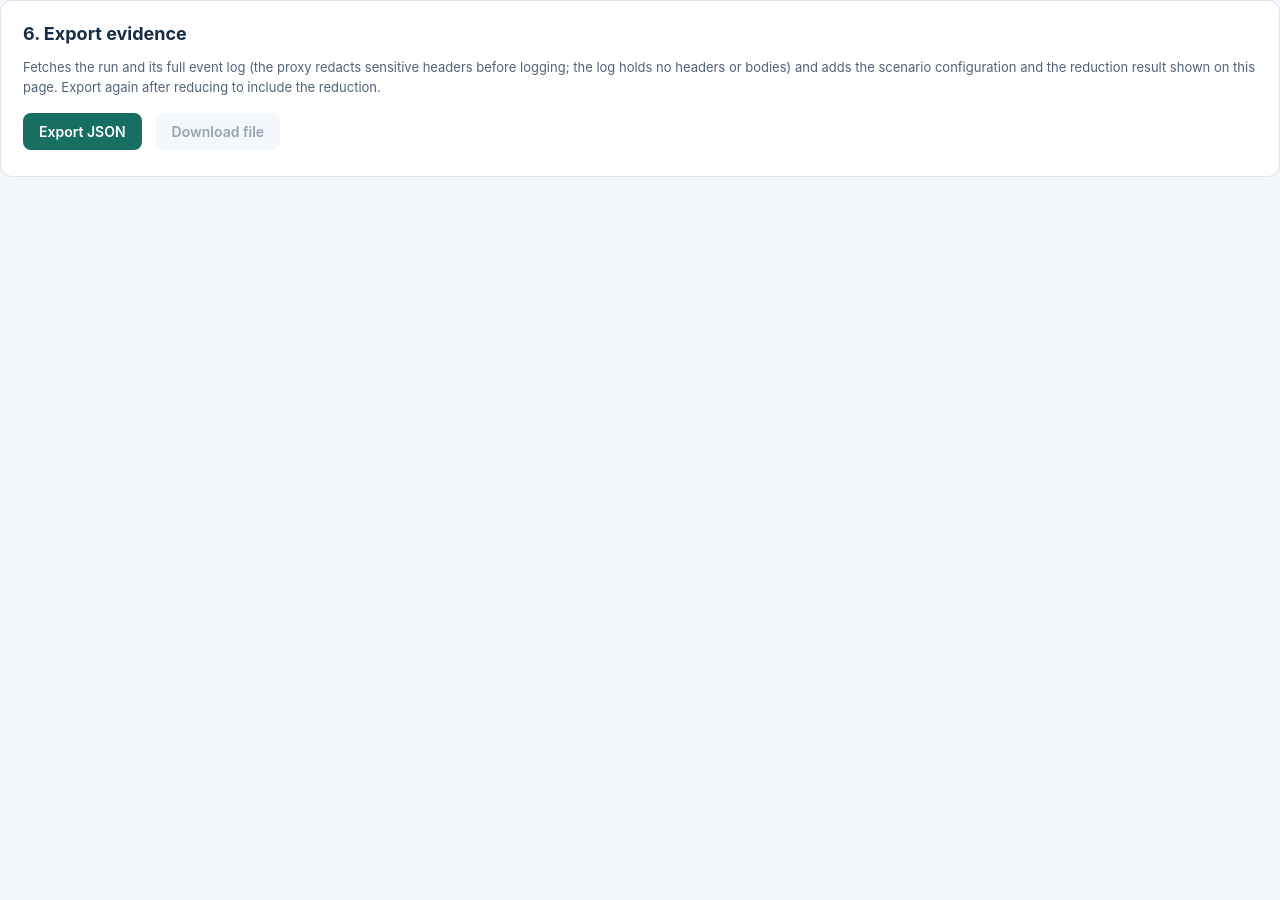
Test case: <ExportPanel/> › includes the reduction result when one was made
Click the button "Export JSON" at (82,132), box x1=23 y1=113 x2=142 y2=150
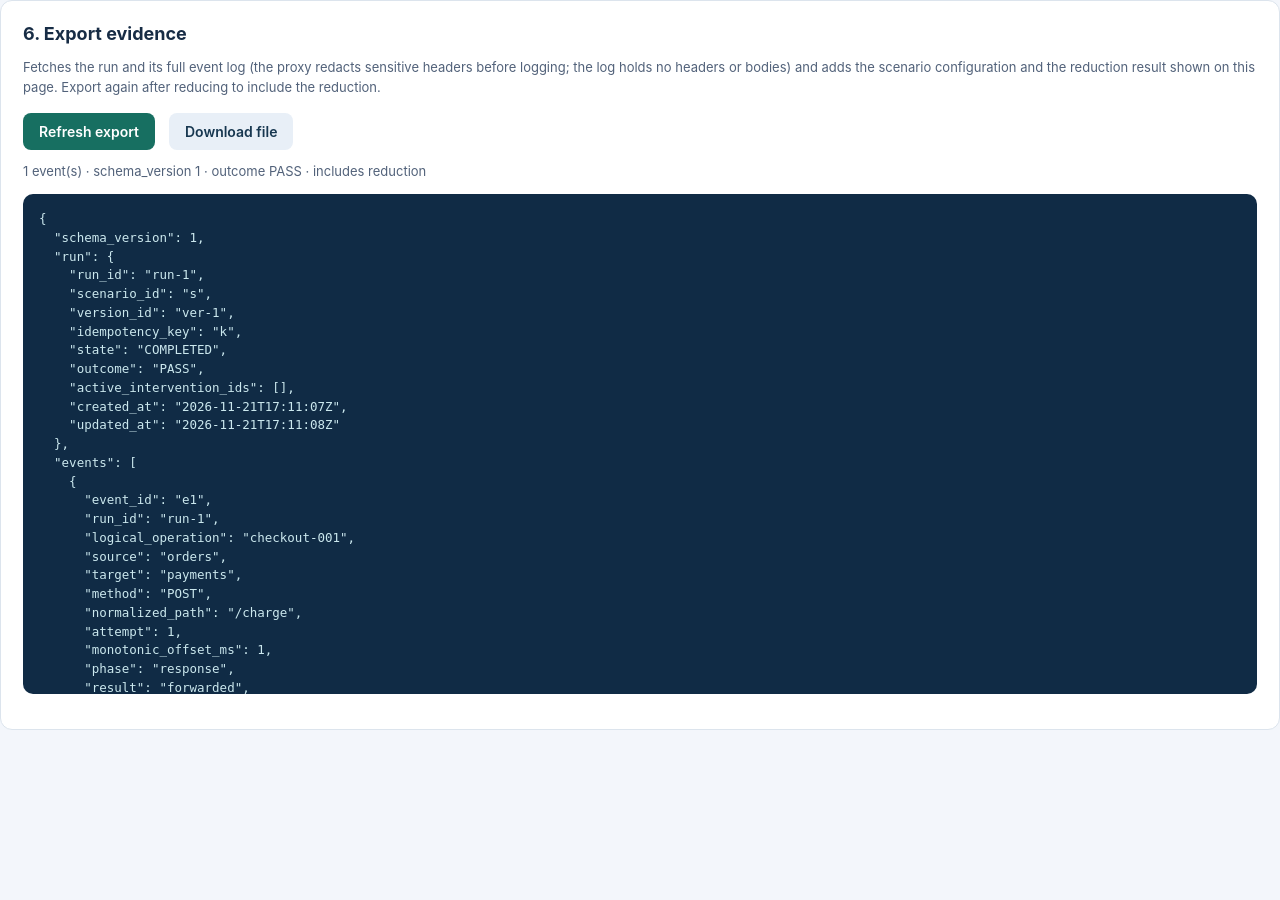
Result: the text "includes reduction" is shown at x1=302 y1=163 x2=426 y2=179
